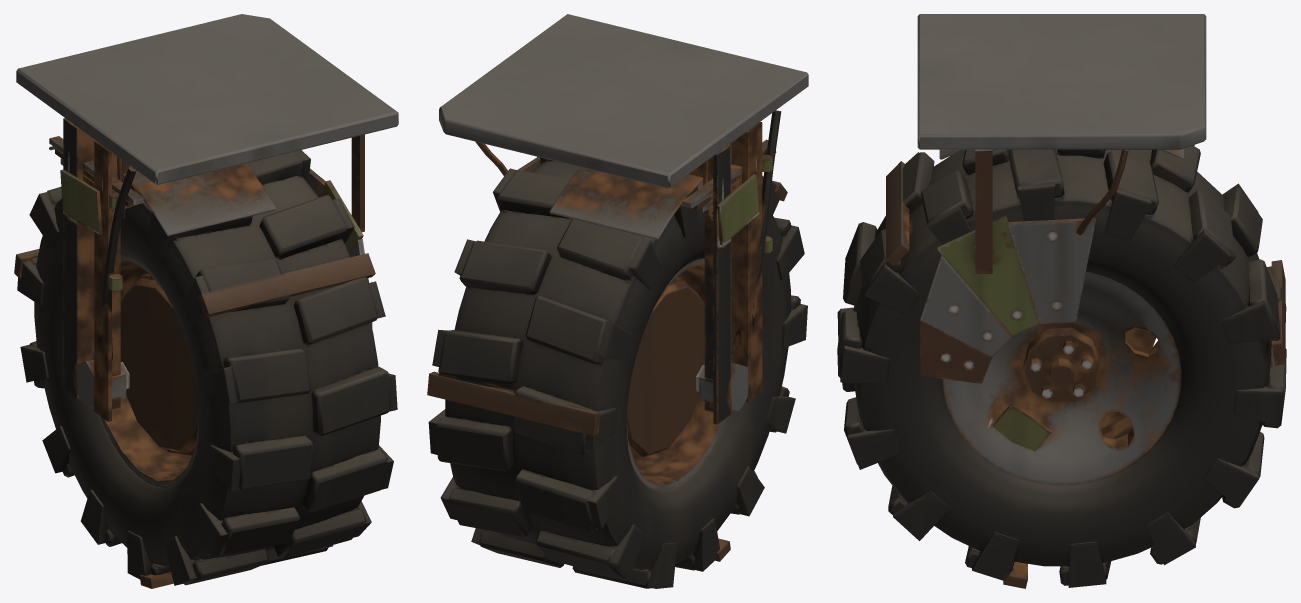
Rendered from R4M_Wheel.fbx.
3 views of the same model, side by side, from view 1: azimuth 30°, elevation 25°; view 2: azimuth 150°, elevation 25°; view 3: azimuth 270°, elevation 25° (orthographic). The views are drawn at different scales.
Visible parts, largest first — view 1: R4M_Wheel_Rotor, R4M_Wheel_Mount; view 2: R4M_Wheel_Rotor, R4M_Wheel_Mount; view 3: R4M_Wheel_Rotor, R4M_Wheel_Mount.
Boxes of the visible parts, x1,y1,x2,y2 form: R4M_Wheel_Rotor: (14,150,397,588); R4M_Wheel_Mount: (16,14,398,421); R4M_Wheel_Rotor: (427,157,807,588); R4M_Wheel_Mount: (439,14,808,424); R4M_Wheel_Rotor: (837,145,1286,588); R4M_Wheel_Mount: (917,14,1206,383).
Size of the model in its own units: 0.5064 by 0.909 by 0.778.
1 material, 1 textured.
